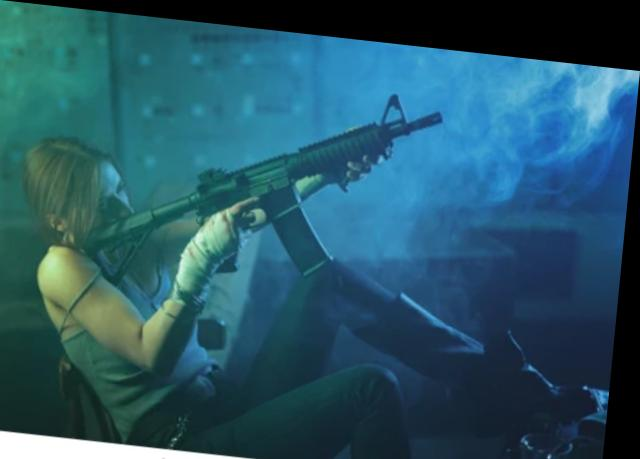other: (10, 139, 258, 443)
